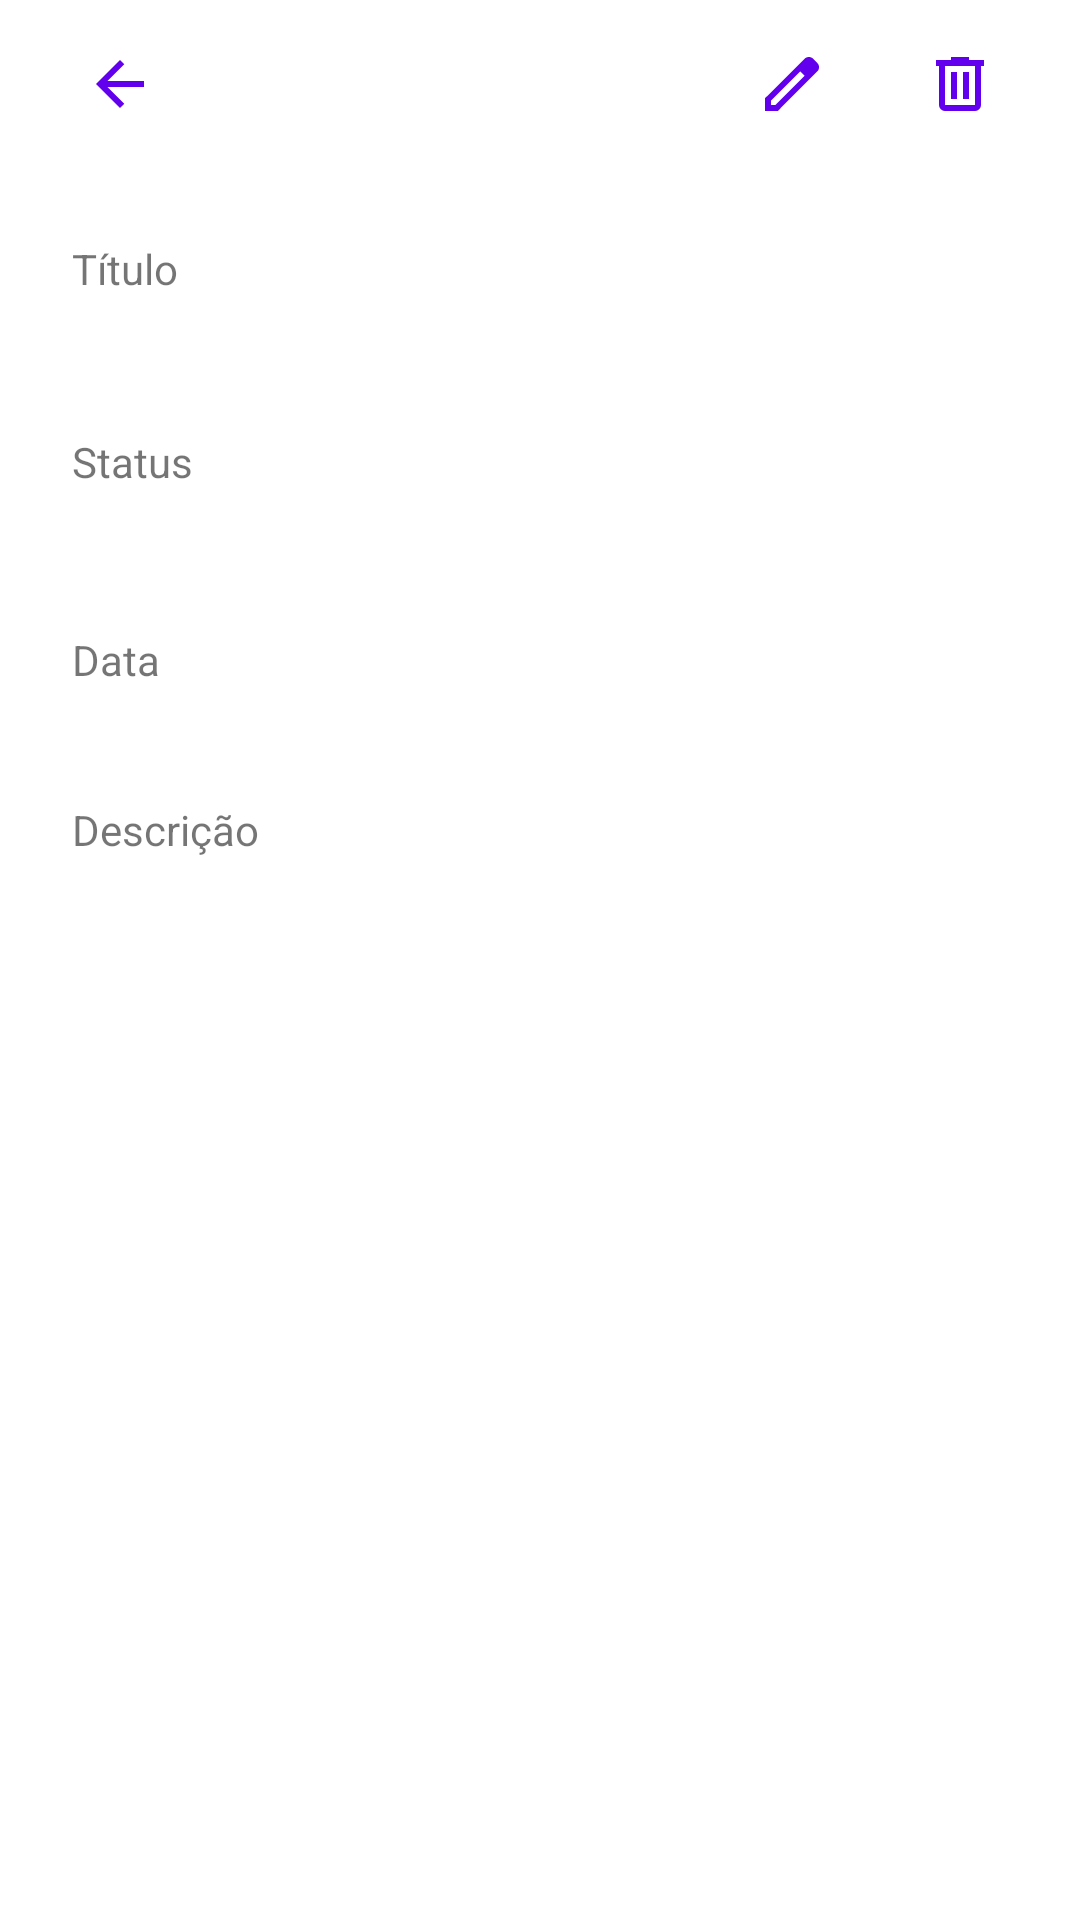

Where to tap for icons on this 1080w x 1920h app screen, as [x,y]:
Back: [120,84]
Delete Task: [960,84]
Edit Task: [792,84]
